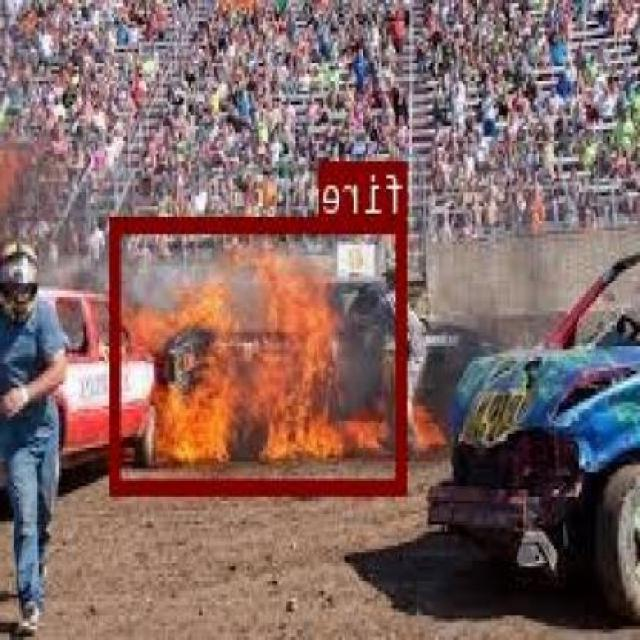Fire: (112, 215, 408, 492)
